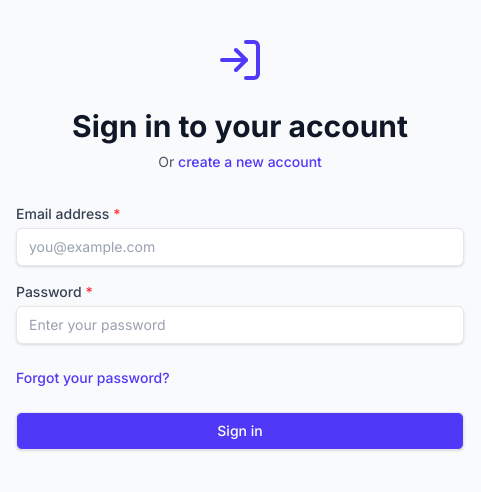
Scenario: LoginPage › Validation Tests › displays error when email is empty and form is submitted
The width and height of the screenshot is (481, 492).
Click the button "Sign in" at (240, 431), box [16,412,464,450]
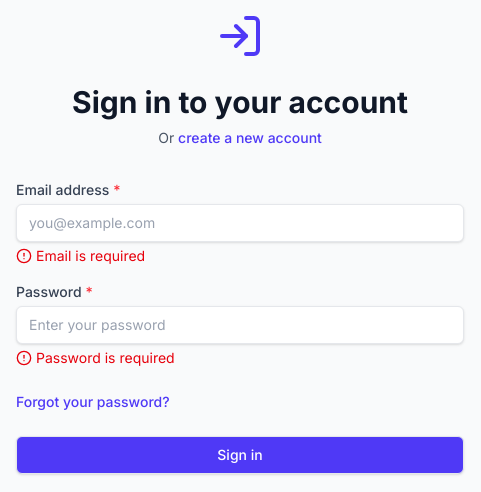
Result: the text "Email is required" is shown at [36,246,145,266]
